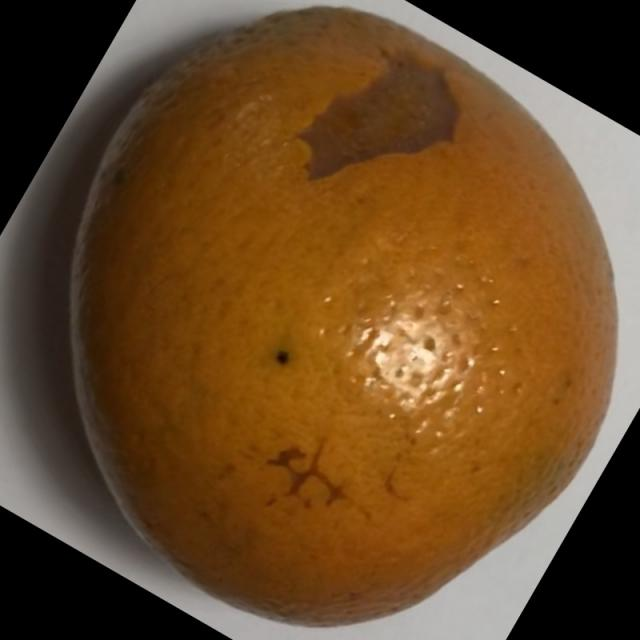canker: (20, 12, 632, 637)
